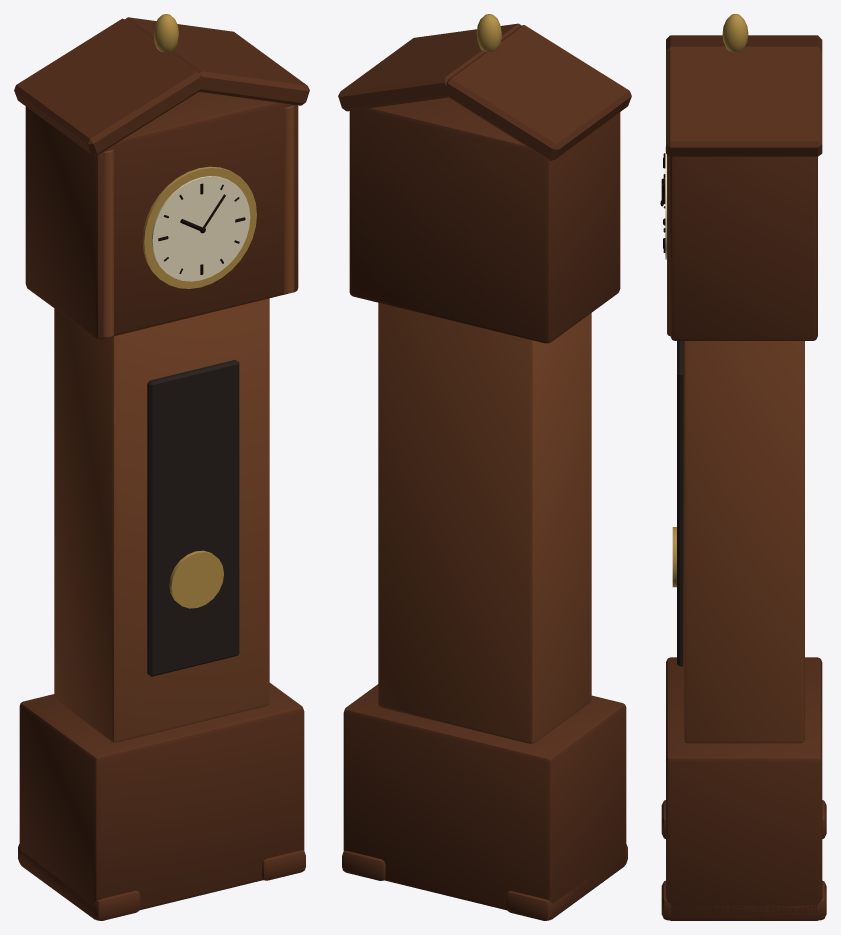
Rendered from PR_GrandfatherClock.fbx.
3 renders of one model, left to right at view 1: azimuth 30°, elevation 25°; view 2: azimuth 150°, elevation 25°; view 3: azimuth 270°, elevation 25°, orthographic.
Visible parts, largest first — view 1: PR_GrandfatherClock_WoodDark, PR_GrandfatherClock_Wood, PR_GrandfatherClock_Soot, PR_GrandfatherClock_DialFace, PR_GrandfatherClock_Brass; view 2: PR_GrandfatherClock_WoodDark, PR_GrandfatherClock_Wood, PR_GrandfatherClock_Brass; view 3: PR_GrandfatherClock_WoodDark, PR_GrandfatherClock_Wood, PR_GrandfatherClock_Soot, PR_GrandfatherClock_Brass.
Part boxes in pixels (left/top/right/bottom): PR_GrandfatherClock_WoodDark: left=14, top=17, right=309, bottom=920; PR_GrandfatherClock_Wood: left=54, top=105, right=294, bottom=742; PR_GrandfatherClock_Soot: left=147, top=359, right=239, bottom=676; PR_GrandfatherClock_DialFace: left=151, top=176, right=250, bottom=281; PR_GrandfatherClock_Brass: left=142, top=14, right=256, bottom=608; PR_GrandfatherClock_WoodDark: left=338, top=23, right=631, bottom=920; PR_GrandfatherClock_Wood: left=378, top=302, right=591, bottom=743; PR_GrandfatherClock_Brass: left=476, top=14, right=501, bottom=51; PR_GrandfatherClock_WoodDark: left=661, top=35, right=826, bottom=920; PR_GrandfatherClock_Wood: left=667, top=154, right=804, bottom=743; PR_GrandfatherClock_Soot: left=677, top=341, right=683, bottom=666; PR_GrandfatherClock_Brass: left=672, top=14, right=748, bottom=587.
Bounding box in the file's own units: 0.591 × 2.18 × 0.383.
